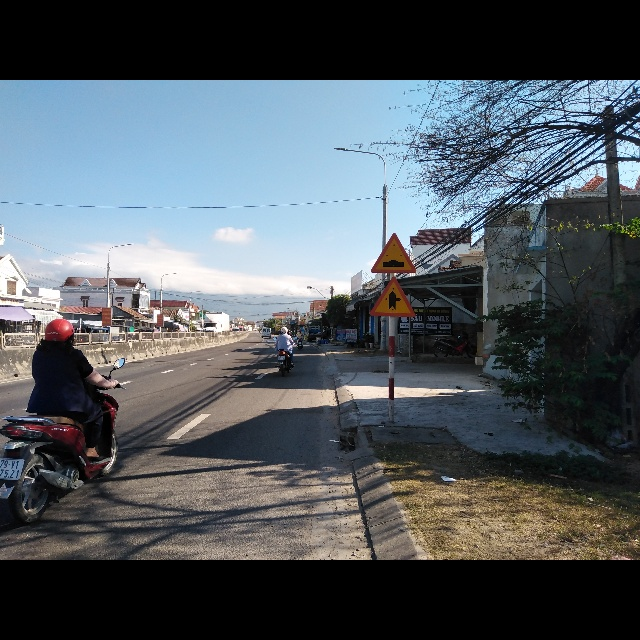Giao nhau với đường không ưu tiên: (369, 277, 415, 317)
Đường không bằng phẳng: (368, 231, 417, 274)
